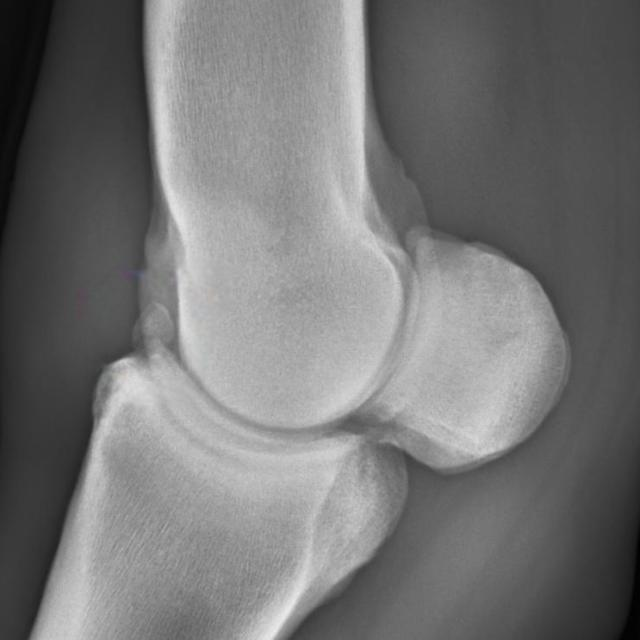bone remodeling: (19, 230, 266, 474)
